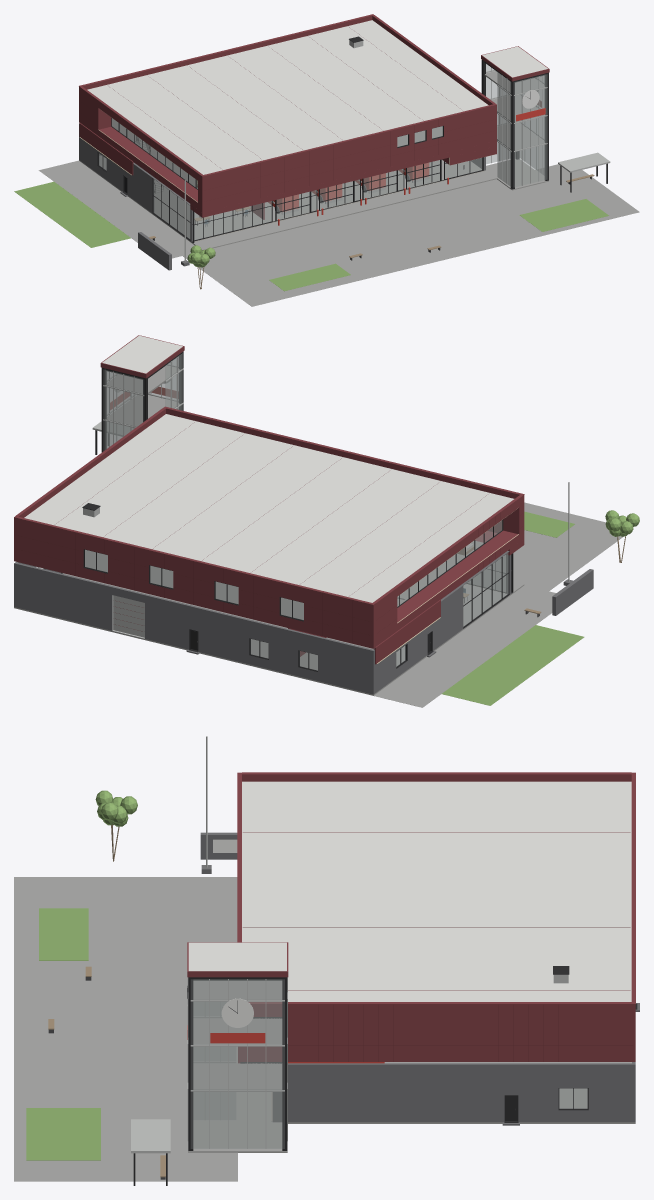
The model's file is clay-cantilever-fire-station-clay-v005.glb.
The picture shows the model from 3 angles, top to bottom: view 1: azimuth 30°, elevation 25°; view 2: azimuth 150°, elevation 25°; view 3: azimuth 270°, elevation 25°; orthographic projection. The views are drawn at different scales.
Visible parts, largest first — view 1: CLAY_FOUNDATION, CLAY_ROOF, CLAY_WALL, CLAY_GLASS, CLAY_PLANTING, CLAY_TRIM, CLAY_STONE, CLAY_FLOOR, CLAY_PALE, CLAY_RED, CLAY_SAND; view 2: CLAY_ROOF, CLAY_WALL, CLAY_STONE, CLAY_FOUNDATION, CLAY_GLASS, CLAY_PLANTING, CLAY_FLOOR, CLAY_TRIM, CLAY_PALE, CLAY_JOINT; view 3: CLAY_ROOF, CLAY_FOUNDATION, CLAY_WALL, CLAY_STONE, CLAY_GLASS, CLAY_PLANTING, CLAY_FLOOR, CLAY_PALE, CLAY_TRIM, CLAY_JOINT, CLAY_WHITE, CLAY_RED.
Boxes of the visible parts, left/top/right/bottom form: CLAY_FOUNDATION: left=39, top=144, right=639, bottom=306; CLAY_ROOF: left=87, top=20, right=548, bottom=174; CLAY_WALL: left=79, top=14, right=549, bottom=219; CLAY_GLASS: left=99, top=64, right=547, bottom=239; CLAY_PLANTING: left=14, top=181, right=608, bottom=291; CLAY_TRIM: left=97, top=36, right=607, bottom=243; CLAY_STONE: left=79, top=124, right=485, bottom=270; CLAY_FLOOR: left=112, top=71, right=544, bottom=188; CLAY_PALE: left=136, top=40, right=610, bottom=261; CLAY_RED: left=268, top=101, right=545, bottom=225; CLAY_SAND: left=194, top=170, right=484, bottom=241; CLAY_ROOF: left=24, top=335, right=513, bottom=602; CLAY_WALL: left=14, top=335, right=524, bottom=664; CLAY_STONE: left=14, top=551, right=593, bottom=694; CLAY_FOUNDATION: left=14, top=502, right=633, bottom=707; CLAY_GLASS: left=36, top=353, right=508, bottom=670; CLAY_PLANTING: left=442, top=510, right=639, bottom=705; CLAY_FLOOR: left=85, top=365, right=483, bottom=619; CLAY_TRIM: left=38, top=351, right=513, bottom=671; CLAY_PALE: left=83, top=357, right=569, bottom=638; CLAY_JOINT: left=18, top=422, right=500, bottom=643; CLAY_ROOF: left=188, top=781, right=631, bottom=1001; CLAY_FOUNDATION: left=14, top=877, right=635, bottom=1181; CLAY_WALL: left=187, top=772, right=635, bottom=1063; CLAY_STONE: left=200, top=832, right=639, bottom=1125; CLAY_GLASS: left=191, top=979, right=587, bottom=1148; CLAY_PLANTING: left=26, top=790, right=137, bottom=1160; CLAY_FLOOR: left=193, top=980, right=282, bottom=1091; CLAY_PALE: left=131, top=736, right=568, bottom=1153; CLAY_TRIM: left=133, top=966, right=637, bottom=1185; CLAY_JOINT: left=243, top=832, right=632, bottom=1061; CLAY_WHITE: left=187, top=839, right=253, bottom=1027; CLAY_RED: left=187, top=1025, right=384, bottom=1063.
Size of the model in its own units: 68 by 16.11 by 50.34.
